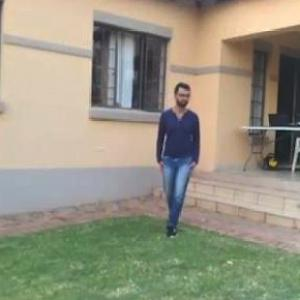follow: (155, 76, 203, 241)
